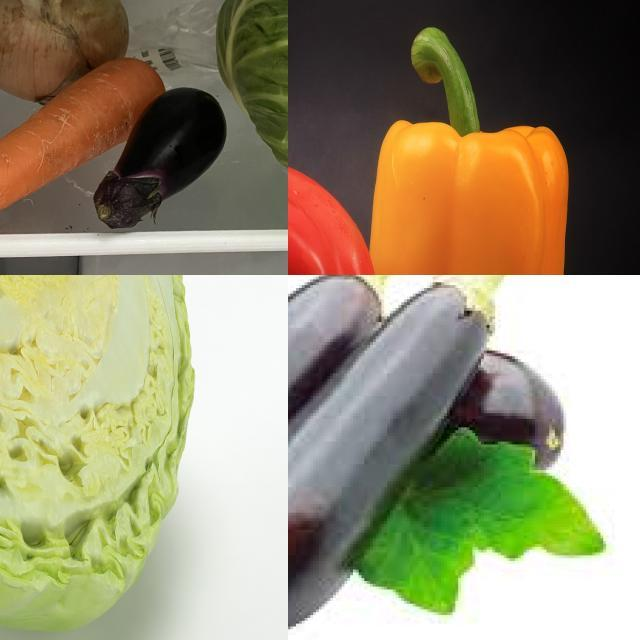cabbage: (1, 276, 196, 637), (211, 1, 289, 276)
carrot: (1, 52, 171, 259)
eggplant: (289, 280, 490, 630), (289, 276, 368, 550), (90, 88, 230, 236)
onion: (1, 1, 134, 110)
